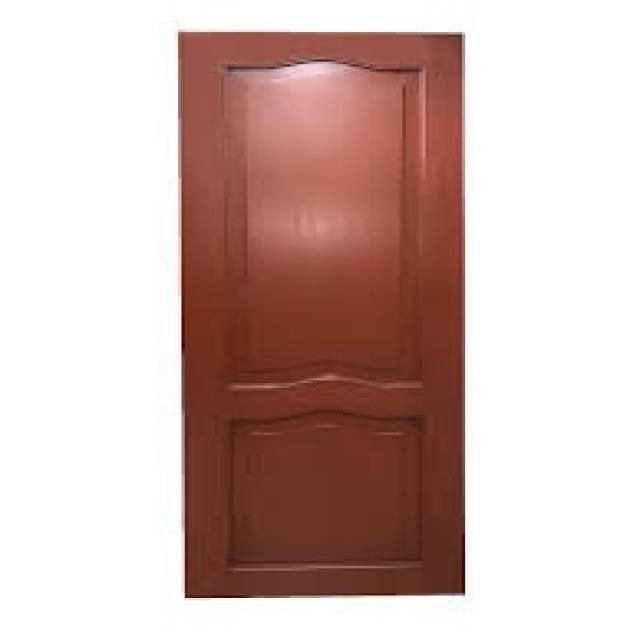door: (178, 32, 469, 598)
